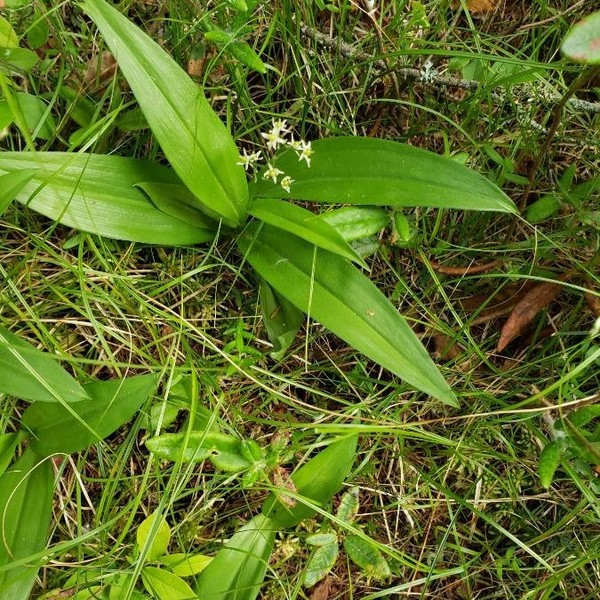obstacle: (69, 63, 531, 407)
